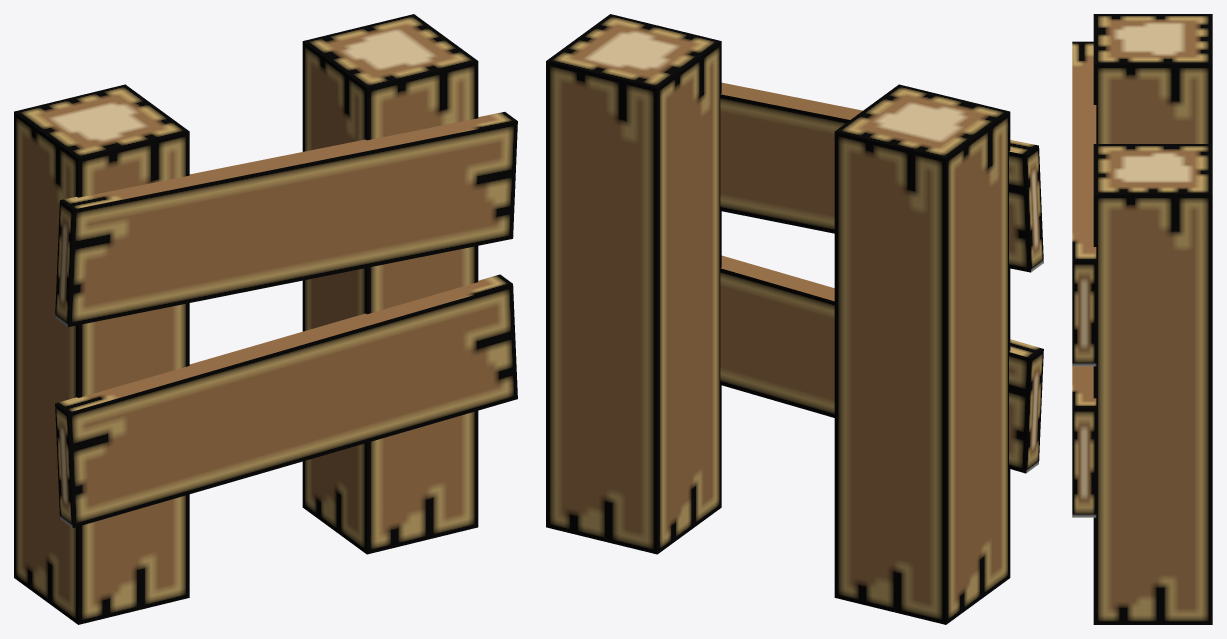
Rendered from deco_fenceSmall.FBX.
3 views of the same model, side by side, from view 1: azimuth 30°, elevation 25°; view 2: azimuth 150°, elevation 25°; view 3: azimuth 270°, elevation 25° (orthographic). The views are drawn at different scales.
Parts seen in each view (by area): view 1: deco_fenceSmall; view 2: deco_fenceSmall; view 3: deco_fenceSmall.
Boxes of the visible parts, x1,y1,x2,y2 form: deco_fenceSmall: (14, 14, 517, 624); deco_fenceSmall: (546, 14, 1043, 624); deco_fenceSmall: (1072, 14, 1212, 624).
Size of the model in its own units: 2.02 by 2 by 0.5898.
1 material, 1 textured.
